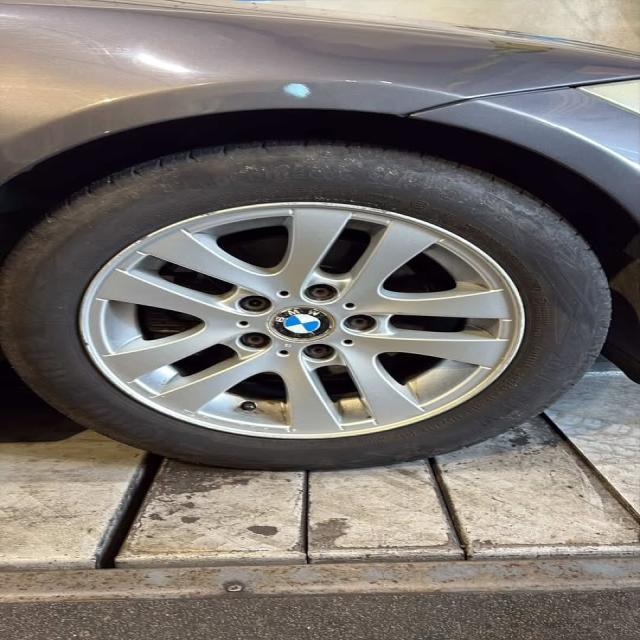jante: (79, 201, 528, 439)
parafuso: (298, 282, 343, 306), (233, 293, 274, 317), (338, 312, 379, 334), (238, 332, 273, 353), (302, 343, 336, 362)
roda: (0, 135, 615, 474)
